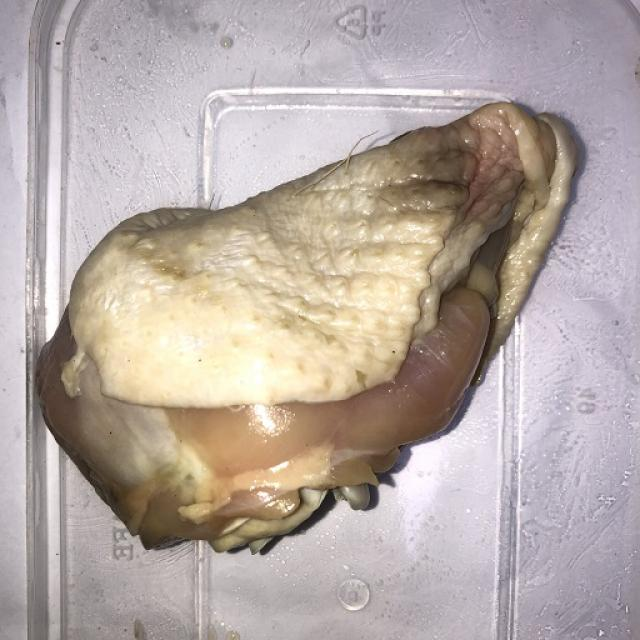chicken: (36, 83, 589, 576)
